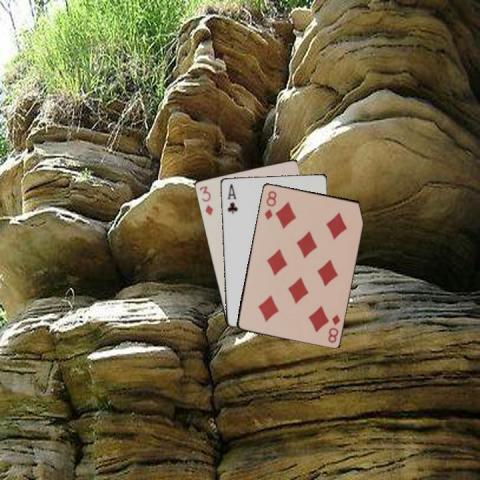3d: (196, 183, 214, 216)
8d: (261, 188, 278, 222), (325, 311, 341, 344)
Ac: (224, 180, 238, 214)
